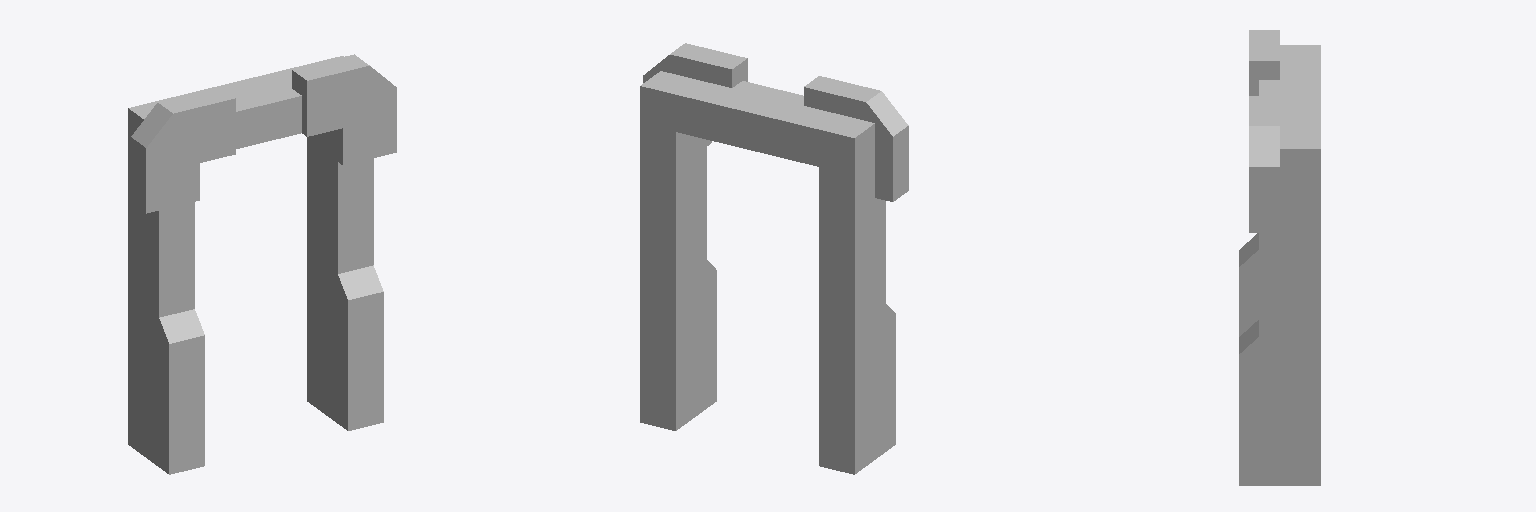
The model's file is cryptSmallDoorwayAlternative.obj.
3 renders of one model, left to right at view 1: azimuth 30°, elevation 25°; view 2: azimuth 150°, elevation 25°; view 3: azimuth 270°, elevation 25°, orthographic.
Parts seen in each view (by area): view 1: cryptSmallDoorwayAlternative; view 2: cryptSmallDoorwayAlternative; view 3: cryptSmallDoorwayAlternative.
Boxes of the visible parts, <box> form: cryptSmallDoorwayAlternative: <box>128,54,396,474</box>; cryptSmallDoorwayAlternative: <box>640,43,908,474</box>; cryptSmallDoorwayAlternative: <box>1239,30,1320,485</box>.
Size of the model in its own units: 0.7 by 0.95 by 0.2.